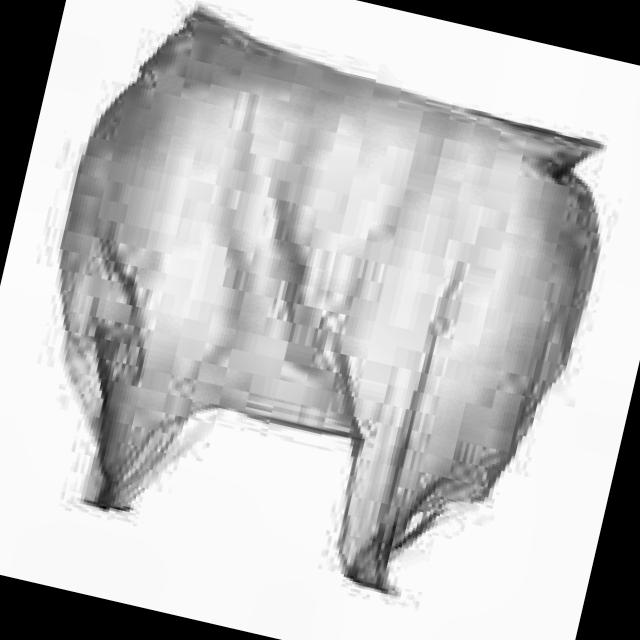plastic bag: (60, 16, 598, 592)
